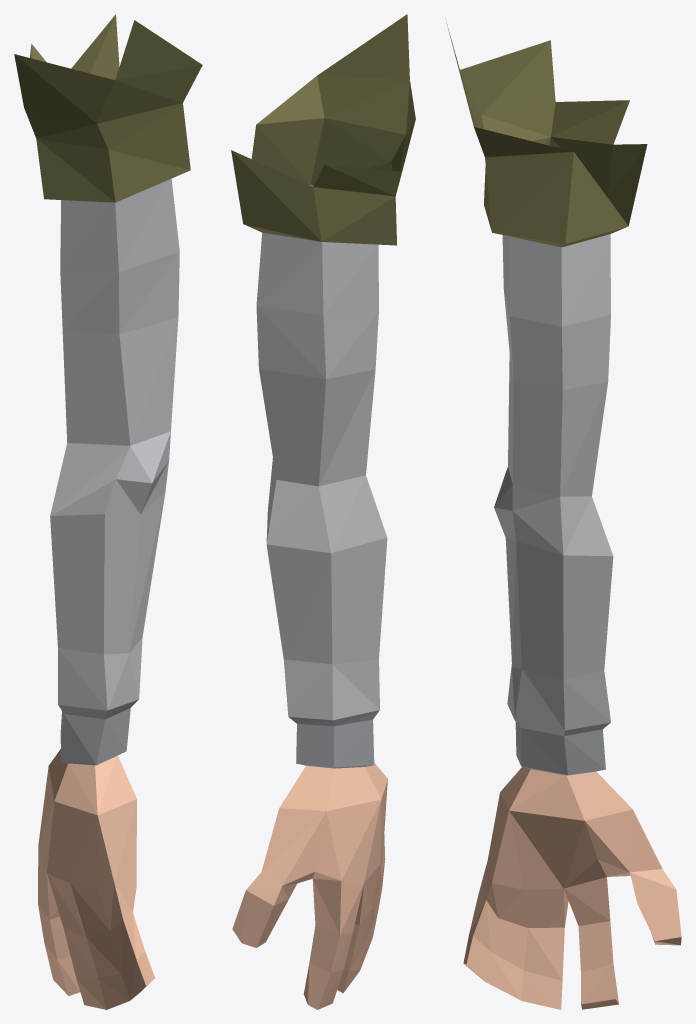
Rendered from Daughter_01_01_A_ArmL.obj.
The picture shows the model from 3 angles, left to right: view 1: azimuth 30°, elevation 25°; view 2: azimuth 150°, elevation 25°; view 3: azimuth 270°, elevation 25°; orthographic projection. The views are drawn at different scales.
Visible parts, largest first — view 1: Daughter_01_01_A_ArmL; view 2: Daughter_01_01_A_ArmL; view 3: Daughter_01_01_A_ArmL.
Boxes of the visible parts, x1=… form: Daughter_01_01_A_ArmL: x1=14, y1=14, x2=202, y2=1009; Daughter_01_01_A_ArmL: x1=231, y1=14, x2=415, y2=1009; Daughter_01_01_A_ArmL: x1=445, y1=19, x2=681, y2=1009.
Bounding box in the file's own units: 0.1622 × 0.9107 × 0.1978.
1 material, 1 textured.
